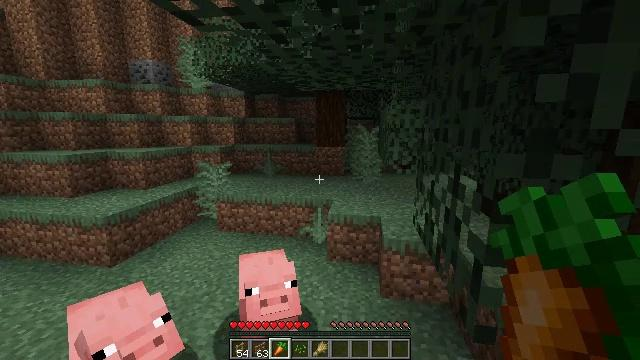pig: (67, 281, 185, 360), (239, 248, 305, 329)
